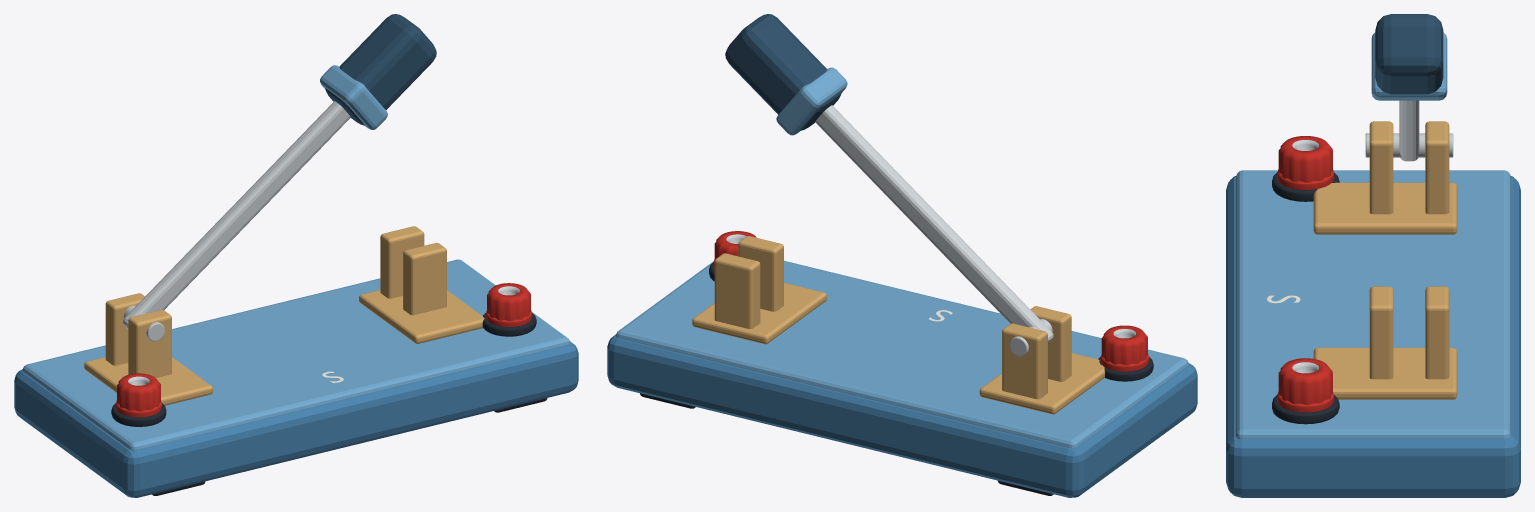
File: knife-switch.glb
3 renders of one model, left to right at view 1: azimuth 30°, elevation 25°; view 2: azimuth 150°, elevation 25°; view 3: azimuth 270°, elevation 25°, orthographic. The views are drawn at different scales.
Visible parts, largest first — view 1: Base upper shoulder, Switch base, Knife copper blade, Knife insulated handle, Bus plate.001, Spring contact fork.002, Spring contact fork, Bus plate, Spring contact fork.003, Handle molding ring, Spring contact fork.001, p binding socket (+2 smaller); view 2: Base upper shoulder, Switch base, Knife copper blade, Knife insulated handle, Spring contact fork.003, Bus plate.001, Spring contact fork.001, Bus plate, Spring contact fork.002, Handle molding ring, Spring contact fork, p binding socket (+1 smaller); view 3: Base upper shoulder, Switch base, Bus plate, Bus plate.001, Knife insulated handle, Spring contact fork.002, Spring contact fork.003, Spring contact fork, Spring contact fork.001, n binding socket, p binding socket, Knife copper blade (+6 smaller).
Part boxes in pixels (x1=…): Base upper shoulder: x1=22, y1=259, x2=570, y2=450; Switch base: x1=14, y1=341, x2=578, y2=497; Knife copper blade: x1=123, y1=101, x2=350, y2=329; Knife insulated handle: x1=325, y1=14, x2=436, y2=125; Bus plate.001: x1=359, y1=290, x2=484, y2=343; Spring contact fork.002: x1=403, y1=242, x2=446, y2=315; Spring contact fork: x1=128, y1=310, x2=171, y2=377; Bus plate: x1=84, y1=357, x2=212, y2=405; Spring contact fork.003: x1=380, y1=226, x2=424, y2=298; Handle molding ring: x1=320, y1=65, x2=387, y2=129; Spring contact fork.001: x1=105, y1=293, x2=144, y2=365; p binding socket: x1=117, y1=373, x2=160, y2=411; Base upper shoulder: x1=616, y1=260, x2=1188, y2=448; Switch base: x1=607, y1=334, x2=1197, y2=497; Knife copper blade: x1=815, y1=105, x2=1053, y2=343; Knife insulated handle: x1=725, y1=14, x2=841, y2=130; Spring contact fork.003: x1=714, y1=253, x2=760, y2=329; Bus plate.001: x1=692, y1=282, x2=826, y2=344; Spring contact fork.001: x1=1002, y1=323, x2=1047, y2=399; Bus plate: x1=979, y1=353, x2=1104, y2=414; Spring contact fork.002: x1=738, y1=236, x2=783, y2=311; Handle molding ring: x1=776, y1=67, x2=847, y2=135; Spring contact fork: x1=1030, y1=306, x2=1071, y2=381; p binding socket: x1=1101, y1=325, x2=1147, y2=365; Base upper shoulder: x1=1236, y1=170, x2=1510, y2=438; Switch base: x1=1226, y1=176, x2=1520, y2=497; Bus plate: x1=1313, y1=182, x2=1457, y2=234; Bus plate.001: x1=1313, y1=347, x2=1457, y2=399; Knife insulated handle: x1=1375, y1=14, x2=1443, y2=94; Spring contact fork.002: x1=1369, y1=286, x2=1393, y2=379; Spring contact fork.003: x1=1425, y1=286, x2=1449, y2=379; Spring contact fork: x1=1369, y1=121, x2=1393, y2=214; Spring contact fork.001: x1=1425, y1=121, x2=1449, y2=214; n binding socket: x1=1278, y1=358, x2=1332, y2=405; p binding socket: x1=1278, y1=136, x2=1332, y2=182; Knife copper blade: x1=1399, y1=100, x2=1419, y2=161.
Bounding box in the file's own units: 0.162 × 0.119 × 0.074.
